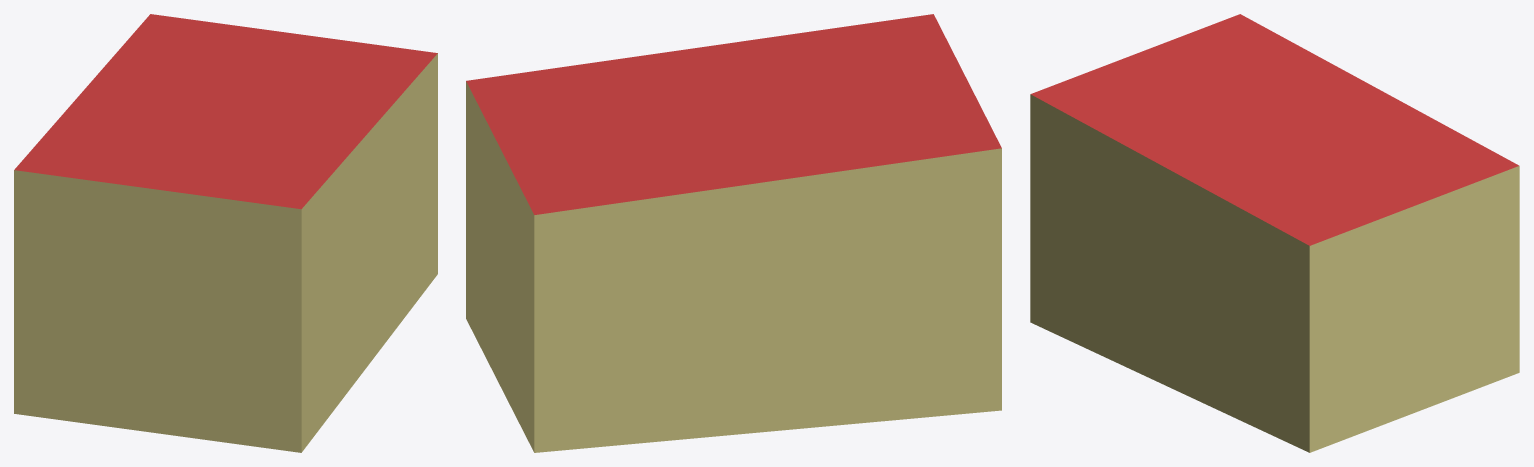
The picture shows the model from 3 angles, left to right: view 1: azimuth 30°, elevation 25°; view 2: azimuth 150°, elevation 25°; view 3: azimuth 270°, elevation 25°; orthographic projection. The views are drawn at different scales.
Visible parts, largest first — view 1: group_4, group_3; view 2: group_4, group_3; view 3: group_4, group_3.
Part boxes in pixels (left/top/right/bottom): group_4: left=14, top=53, right=437, bottom=452; group_3: left=14, top=14, right=437, bottom=209; group_4: left=466, top=81, right=1001, bottom=452; group_3: left=466, top=14, right=1001, bottom=214; group_4: left=1030, top=94, right=1519, bottom=452; group_3: left=1031, top=14, right=1518, bottom=245.
Size of the model in its own units: 12.43 by 12.2 by 6.28.
